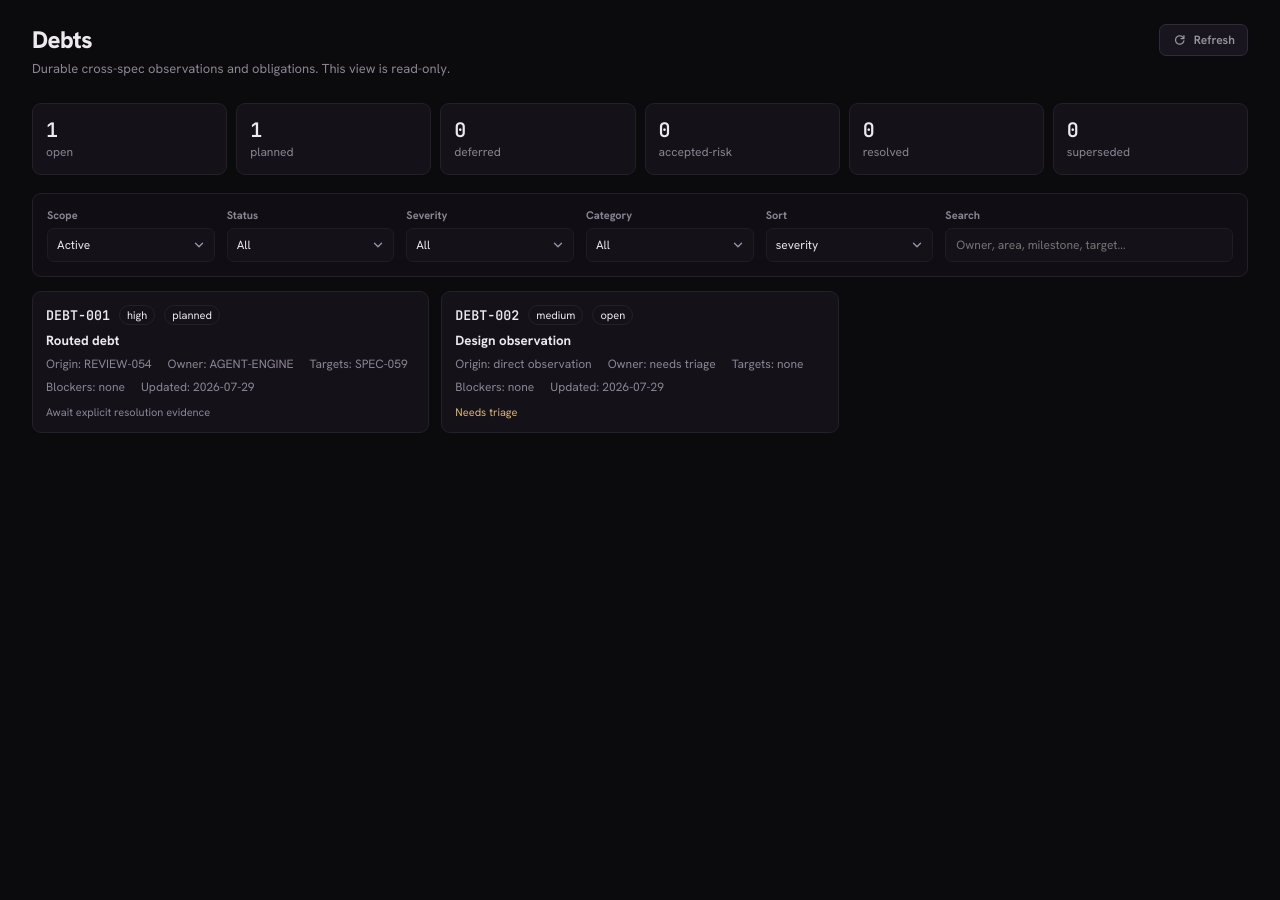
Test case: DebtsView › shows canonical relationships and no lifecycle mutation actions
The width and height of the screenshot is (1280, 900).
Expected: the text "superseded" is shown, [1067,144,1130,160]
Click the button with aria-label "Open DEBT-001". click: (231, 362)
box: [32,291,429,433]
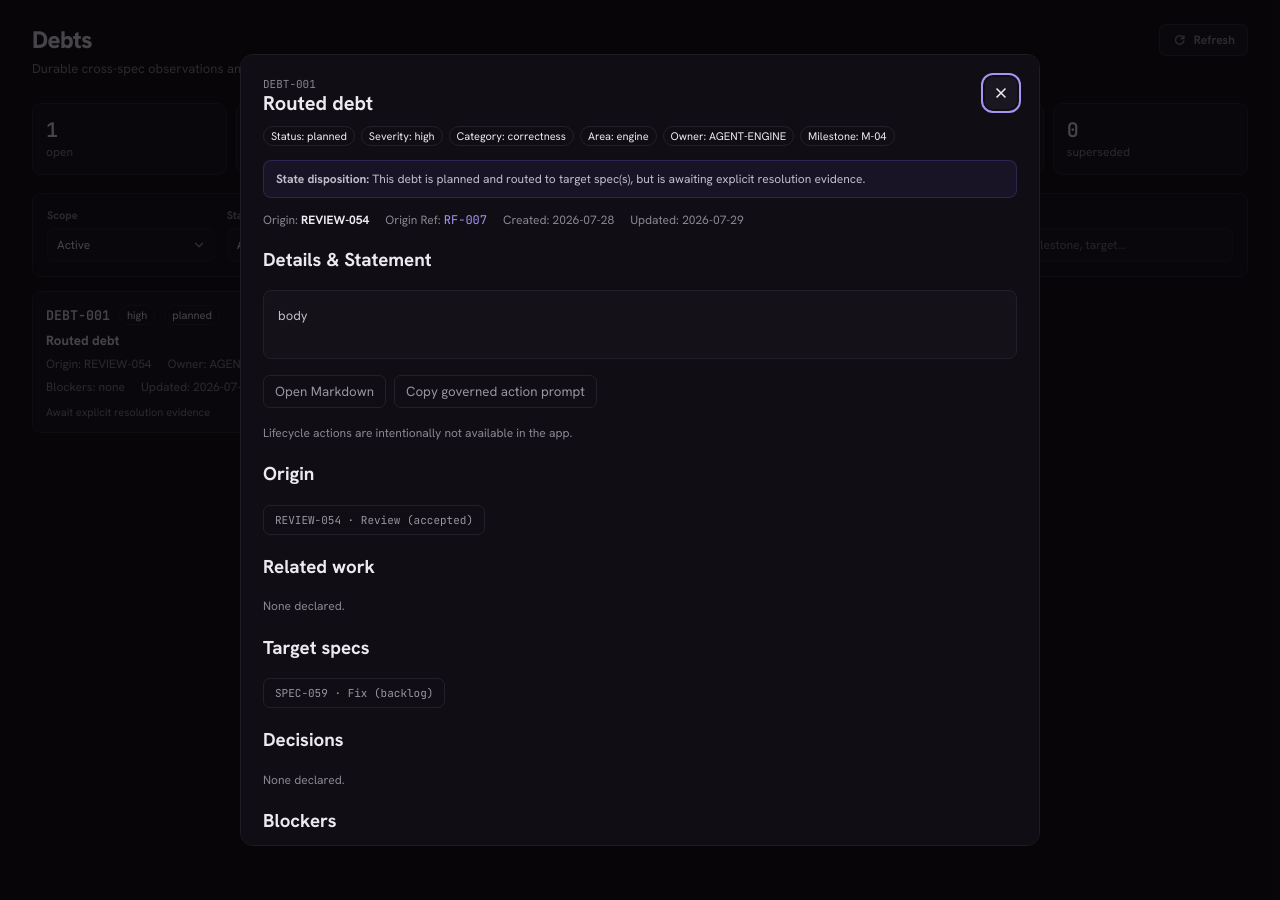
Expected: the dialog is shown, [240,54,1040,846]
Expected: the text "This debt is planned and routed to target spec(s)" is shown, [372,171,865,187]
Expected: the button "REVIEW-054 · Review (accepted)" is shown, [263,505,485,535]
